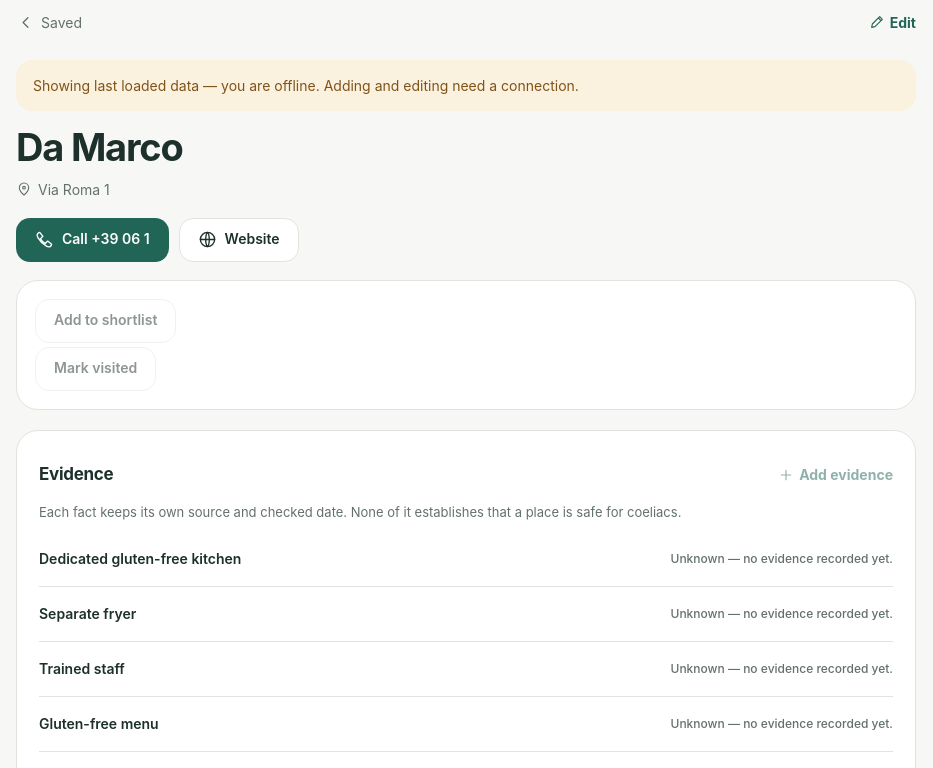
Test: RestaurantDetailPage › shows one offline notice for restaurant=ready, claims=offline, empty=true
Expected: the number of messages with test id "read-offline" is 1, [16,60,916,111]
What coordinates should you click on to do the following:
click the link with test id "add-evidence"
I would click on:
 (836, 475)
Its box is [778,466,893,483].
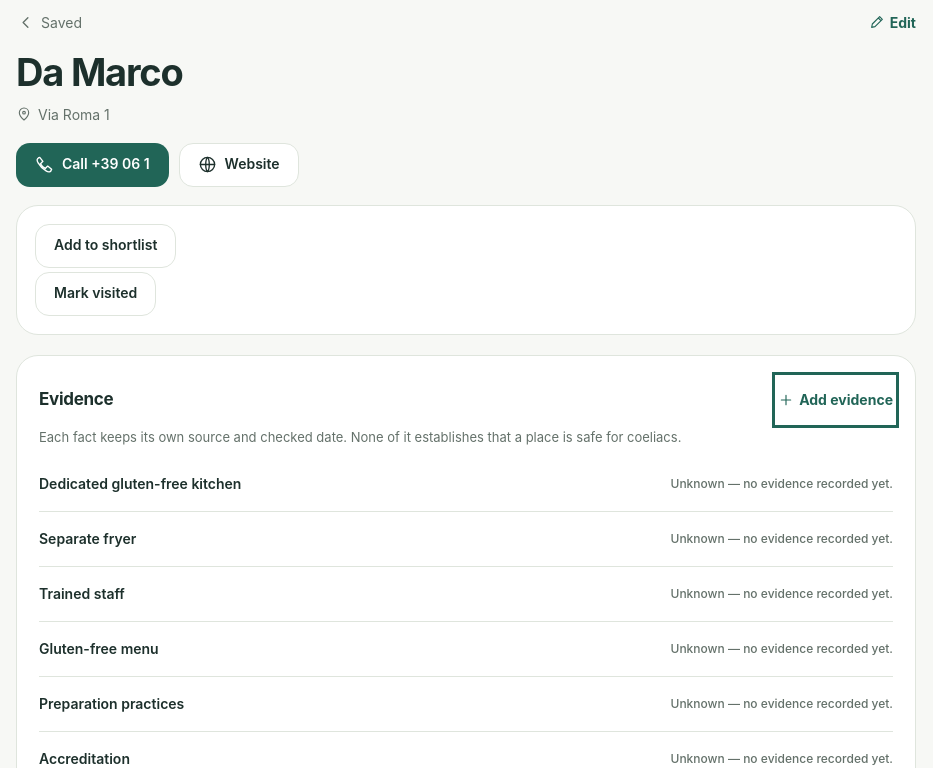
Expected: the heading "Da Marco" is shown, [16,49,183,95]
Now the message with test id "read-offline" is gone
